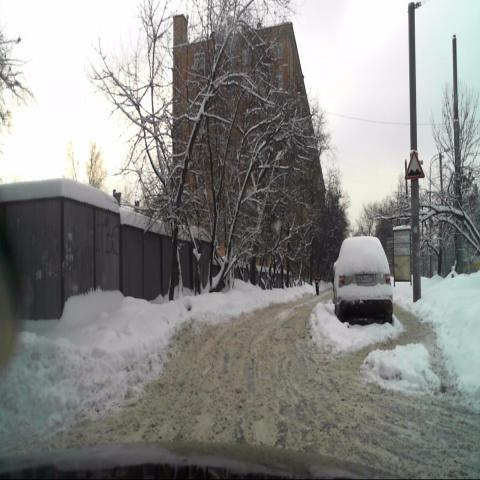1_16: (403, 150, 425, 180)
